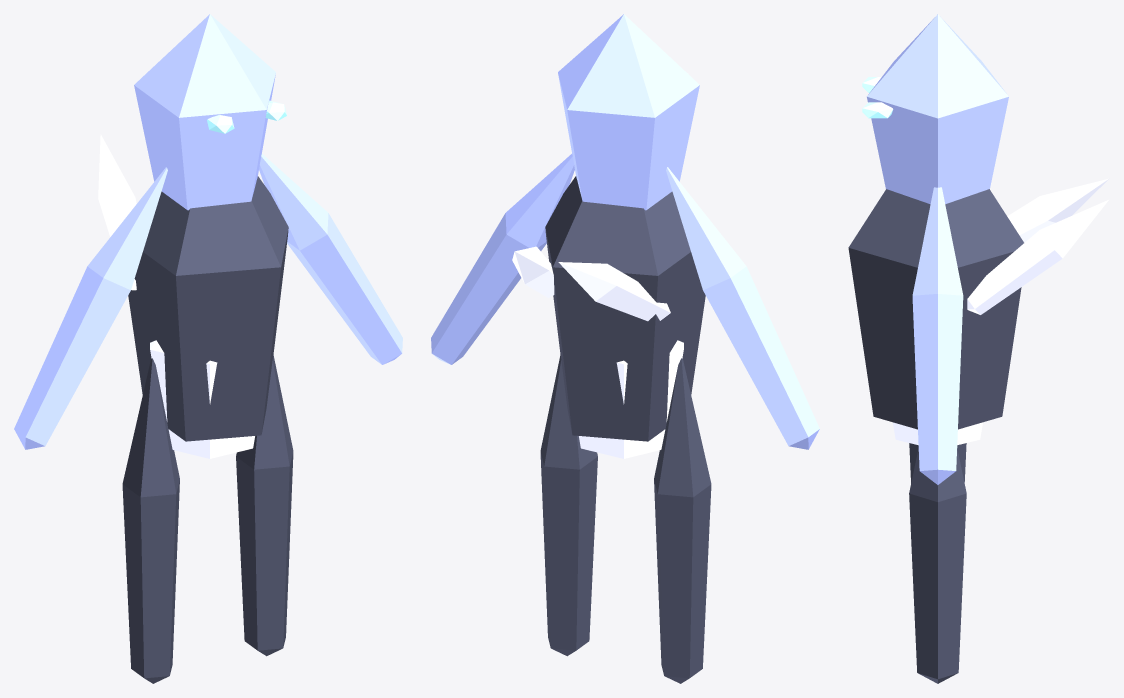
File: deep-fracture-creature-Shardling-storm.glb
The picture shows the model from 3 angles, left to right: view 1: azimuth 30°, elevation 25°; view 2: azimuth 150°, elevation 25°; view 3: azimuth 270°, elevation 25°; orthographic projection. The views are drawn at different scales.
Visible parts, largest first — view 1: torso, head, runner-l, runner-r, arm-l, arm-r, locomotion-core, back-spine-left; view 2: torso, head, runner-l, runner-r, arm-l, arm-r, back-spine-left, locomotion-core, back-spine-right; view 3: torso, head, arm-r, runner-r, back-spine-right, back-spine-left, locomotion-core, runner-l, inset-eye-1.
Part boxes in pixels (left/top/right/bottom): torso: left=128, top=176, right=288, bottom=441; head: left=134, top=14, right=275, bottom=210; runner-l: left=122, top=358, right=179, bottom=683; runner-r: left=236, top=355, right=293, bottom=656; arm-l: left=14, top=167, right=167, bottom=449; arm-r: left=259, top=154, right=402, bottom=364; locomotion-core: left=150, top=340, right=254, bottom=458; back-spine-left: left=98, top=134, right=136, bottom=290; torso: left=545, top=176, right=705, bottom=441; head: left=558, top=14, right=699, bottom=210; runner-l: left=654, top=358, right=711, bottom=683; runner-r: left=540, top=355, right=597, bottom=656; arm-l: left=666, top=167, right=819, bottom=449; arm-r: left=431, top=154, right=574, bottom=364; back-spine-left: left=558, top=262, right=670, bottom=321; locomotion-core: left=579, top=340, right=683, bottom=458; back-spine-right: left=512, top=246, right=554, bottom=297; torso: left=848, top=189, right=1023, bottom=429; head: left=867, top=14, right=1008, bottom=204; arm-r: left=912, top=187, right=963, bottom=484; runner-r: left=909, top=448, right=966, bottom=683; back-spine-right: left=967, top=200, right=1108, bottom=314; back-spine-left: left=1007, top=178, right=1108, bottom=242; locomotion-core: left=892, top=422, right=982, bottom=445; runner-l: left=909, top=443, right=966, bottom=483; inset-eye-1: left=862, top=102, right=893, bottom=118.
Bounding box in the file's own units: 1.22 × 1.99 × 0.7324.
